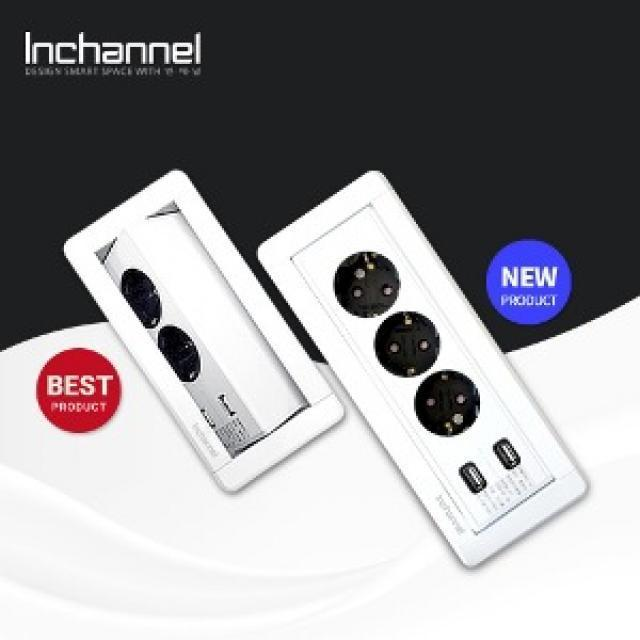typeb: (255, 174, 594, 587)
